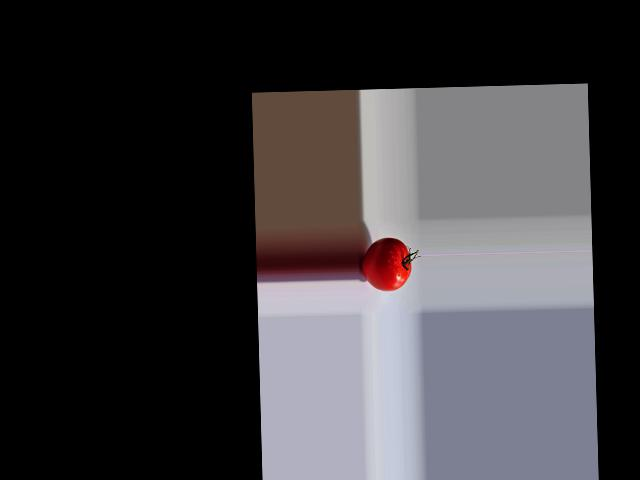tomato: (360, 237, 411, 292)
